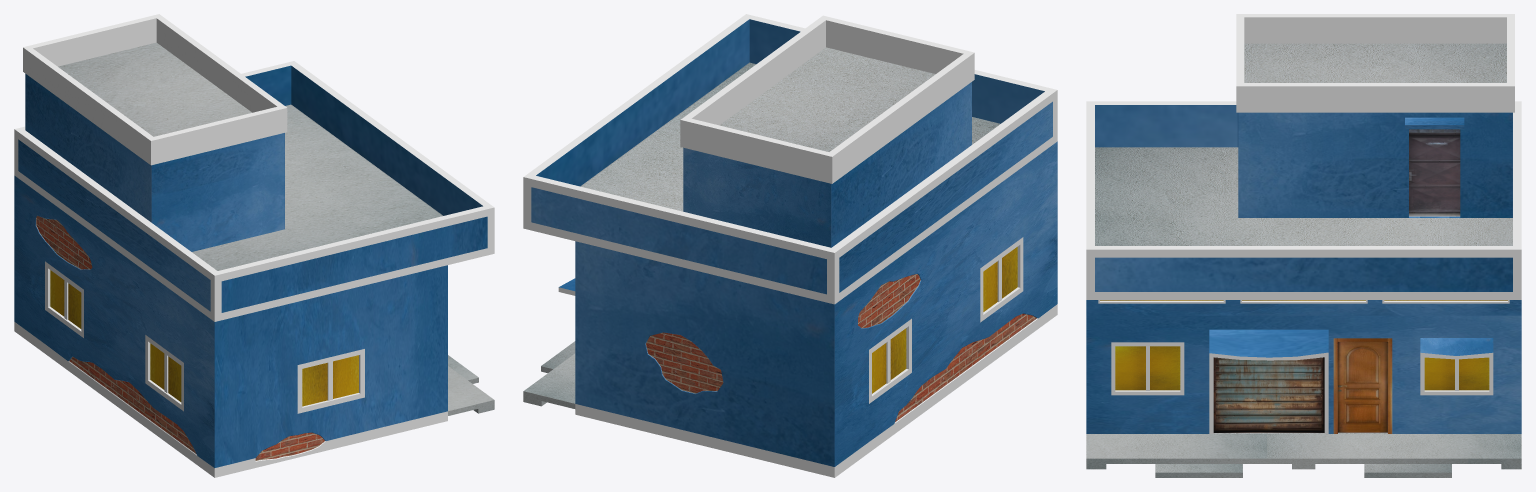
The model's file is small_house.glb.
3 renders of one model, left to right at view 1: azimuth 30°, elevation 25°; view 2: azimuth 150°, elevation 25°; view 3: azimuth 270°, elevation 25°, orthographic. The views are drawn at different scales.
Parts seen in each view (by area): view 1: building_003_0; view 2: building_003_0; view 3: building_003_0.
Boxes of the visible parts, <box> form: building_003_0: <box>14,14,494,477</box>; building_003_0: <box>523,14,1057,477</box>; building_003_0: <box>1086,14,1521,477</box>.
Size of the model in its own units: 6.36 by 5.85 by 7.45.
Materials: 8 (7 with a texture image).
